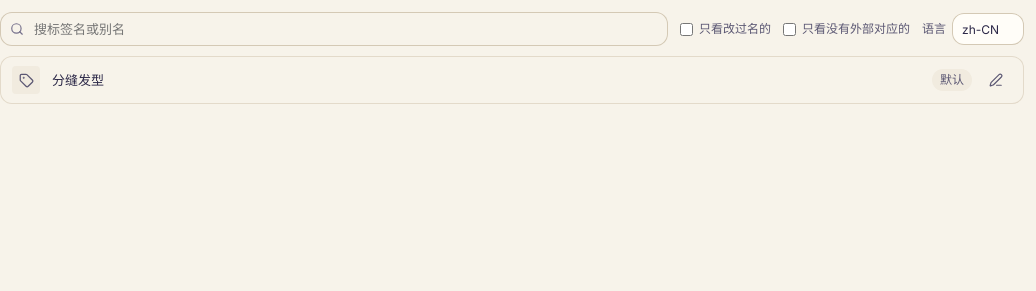
loads the catalog and saves an equal-default preference explicitly, keeps aliases separate and resets the preference
Click the button named "改名“分缝发型”" at [996, 80], box [980,64,1012,96]
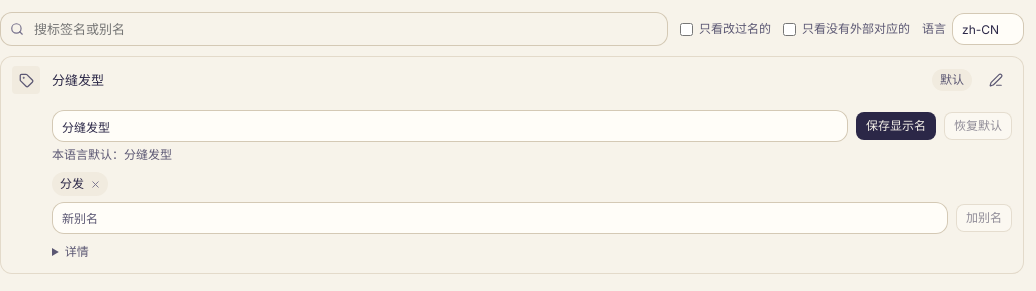
Result: the list item reads "分发" at [60,176,84,191]
Click the button "保存显示名" at [896, 126], box [856,112,936,140]
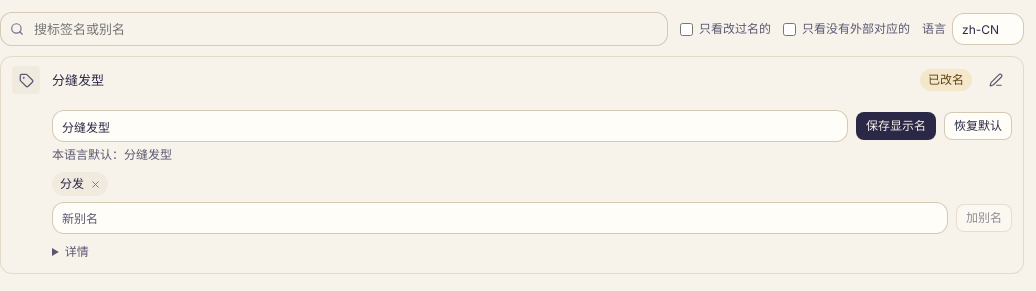
Result: the text "已改名" is shown at [928,70,964,90]
Click the button "恢复默认" at [978, 126], box [944,112,1012,140]
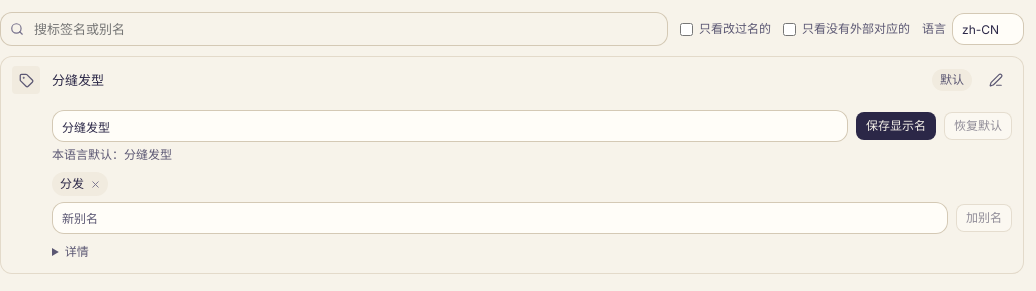
Result: the text "默认" is shown at [940,70,964,90]
Type "en" into the field named "名称语言" at [988, 29], box [952,13,1024,45]
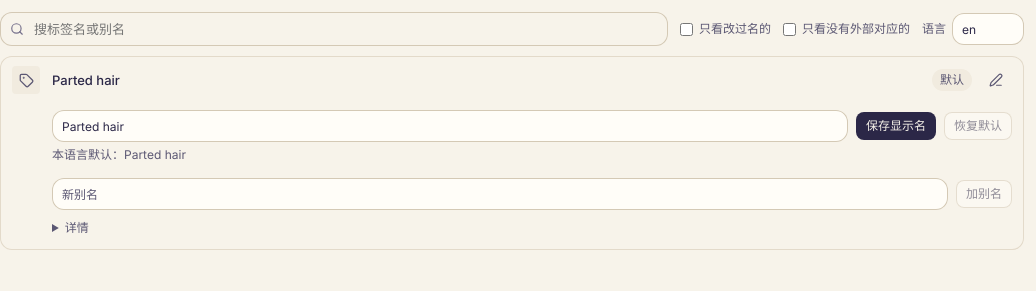
Result: the field named "“Parted hair”的显示名" holds "Parted hair" at [52,110,848,142]
